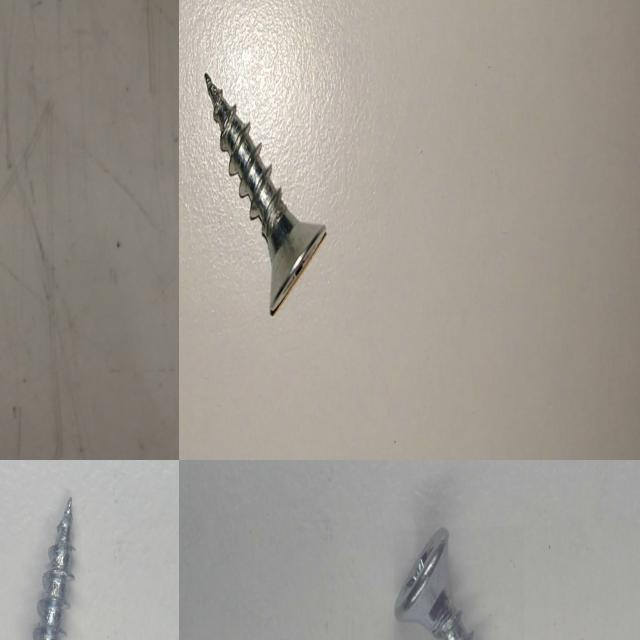Screw: (204, 72, 326, 314), (394, 527, 473, 640), (34, 497, 74, 640)
